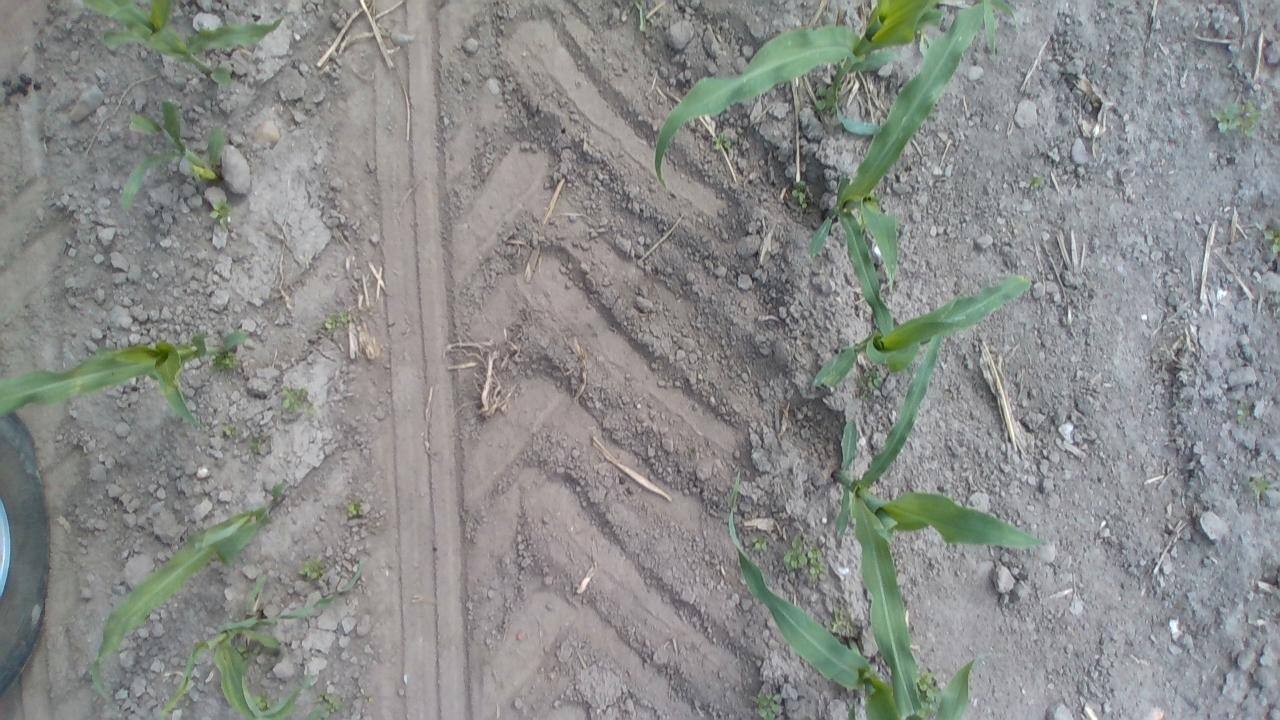Maize: (831, 330, 1054, 716), (806, 0, 1018, 333), (724, 468, 1001, 720), (650, 0, 1023, 179), (90, 478, 288, 712), (162, 562, 366, 720), (810, 272, 1034, 386), (0, 327, 245, 428), (81, 0, 292, 88), (120, 99, 224, 207)
Weeds: (1209, 98, 1262, 138), (782, 535, 826, 582), (914, 665, 946, 720), (280, 386, 316, 416), (855, 368, 883, 404), (749, 690, 780, 720), (314, 691, 343, 720), (830, 603, 856, 634), (814, 84, 838, 117), (209, 196, 232, 228), (208, 349, 238, 373), (236, 641, 262, 668), (318, 310, 352, 330), (298, 556, 326, 580), (791, 179, 812, 210), (1262, 226, 1280, 254), (254, 689, 276, 710), (1249, 476, 1269, 498), (636, 0, 649, 33), (712, 132, 733, 152), (344, 500, 364, 518), (854, 210, 870, 232), (751, 534, 769, 552), (1236, 402, 1251, 423), (222, 423, 239, 440), (1030, 173, 1045, 190), (249, 435, 262, 454), (184, 698, 192, 706)
